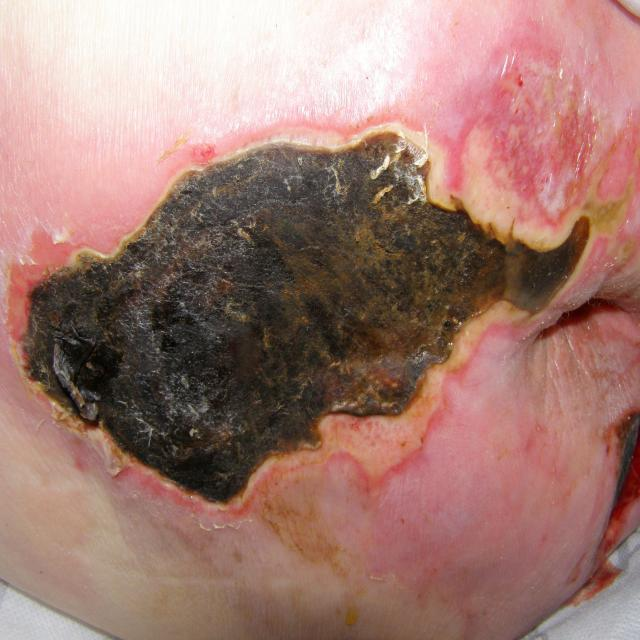wound: (23, 124, 604, 539)
